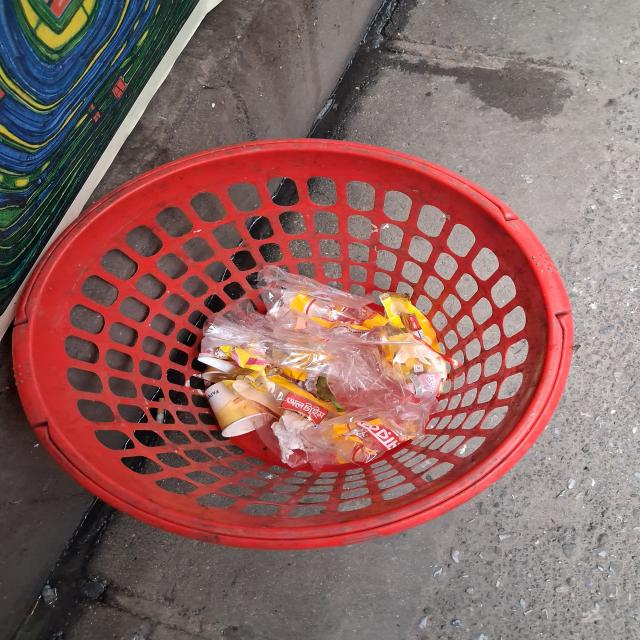paper: (204, 381, 270, 436)
